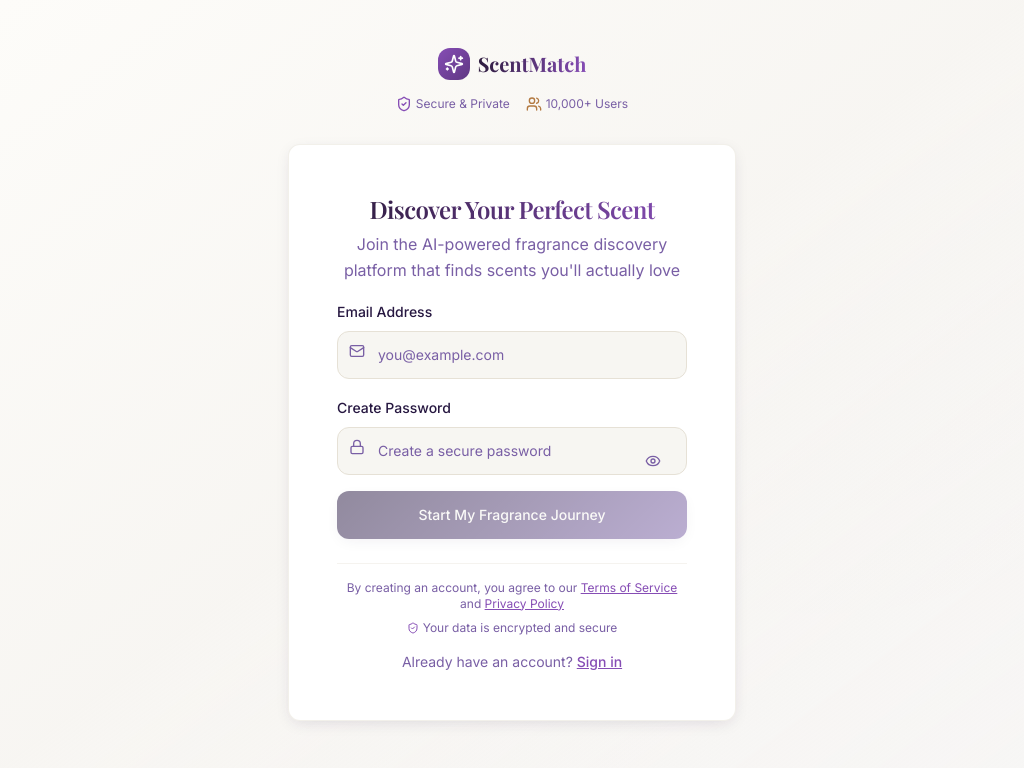
Authentication Page Accessibility Compliance (WCAG 2.2 AA) › 2. Screen Reader Experience › 2.1 Form Labels and Associations › password requirements are accessible to screen readers
In the password field labelled "Create Password": (512, 450) [337,426,687,474], type "a"
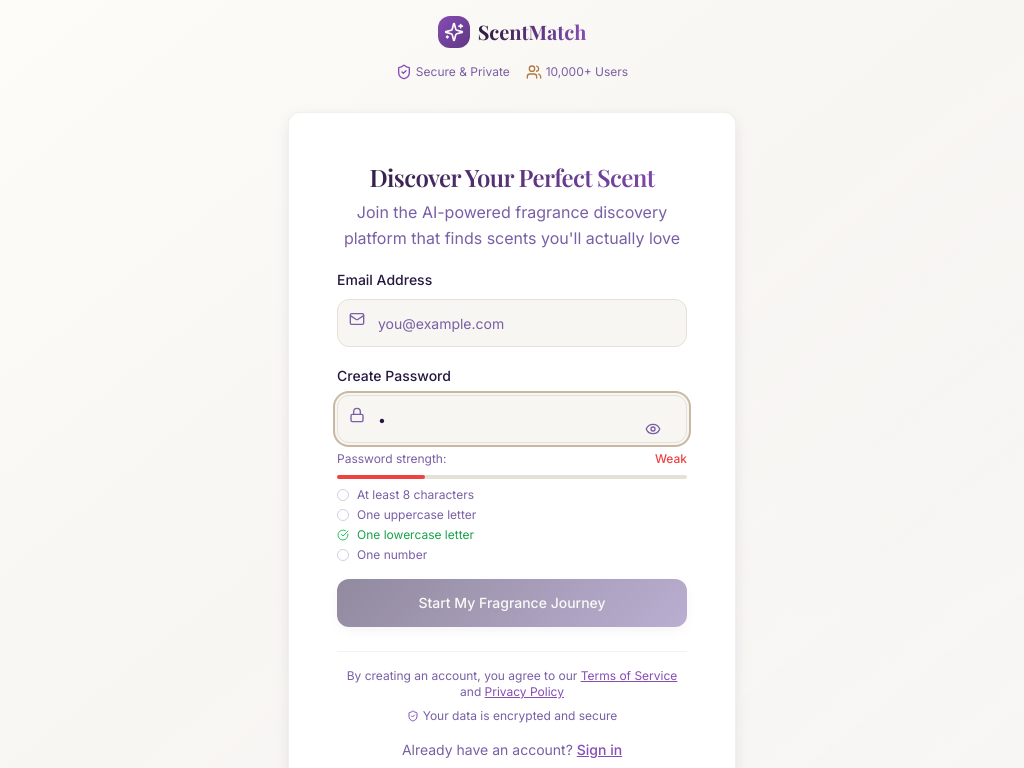
Check: the text "At least 8 characters" is shown, box [337,487,474,502]
Check: the text "One uppercase letter" is shown, box [337,507,476,522]
Check: the text "One lowercase letter" is shown, box [337,527,474,542]
